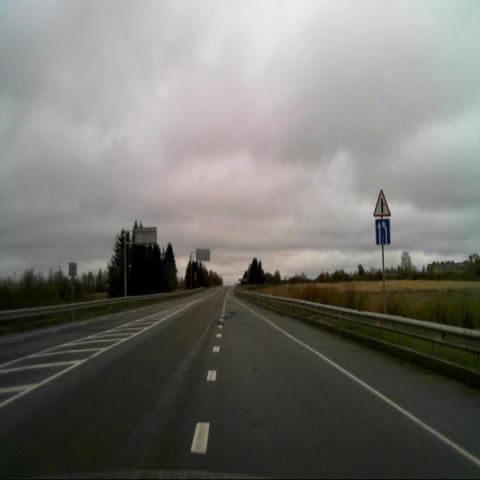5_15_5: (375, 218, 391, 244)
